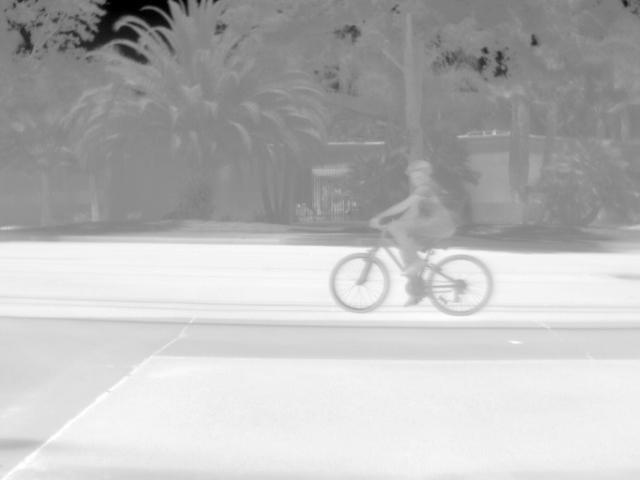person: (368, 158, 459, 310)
